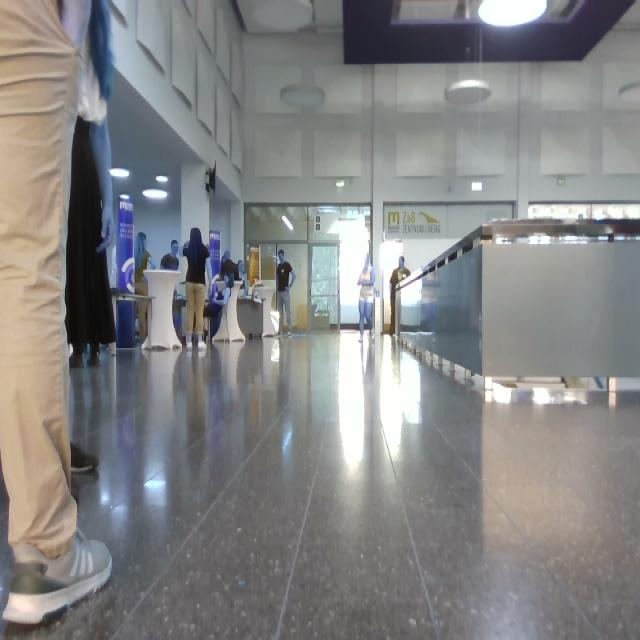door: (246, 205, 371, 330), (259, 245, 277, 309)
light bulb: (246, 1, 313, 33), (479, 1, 547, 26), (281, 85, 325, 110), (284, 214, 294, 232), (110, 169, 130, 178)
person: (1, 1, 112, 624), (67, 1, 115, 366), (182, 228, 209, 348), (205, 253, 239, 341), (358, 256, 375, 336), (136, 233, 155, 296), (137, 301, 148, 344), (162, 241, 179, 268)
staircase: (397, 220, 640, 390)
table: (144, 269, 182, 350), (217, 284, 245, 340)
tiled floor: (1, 334, 640, 640)
